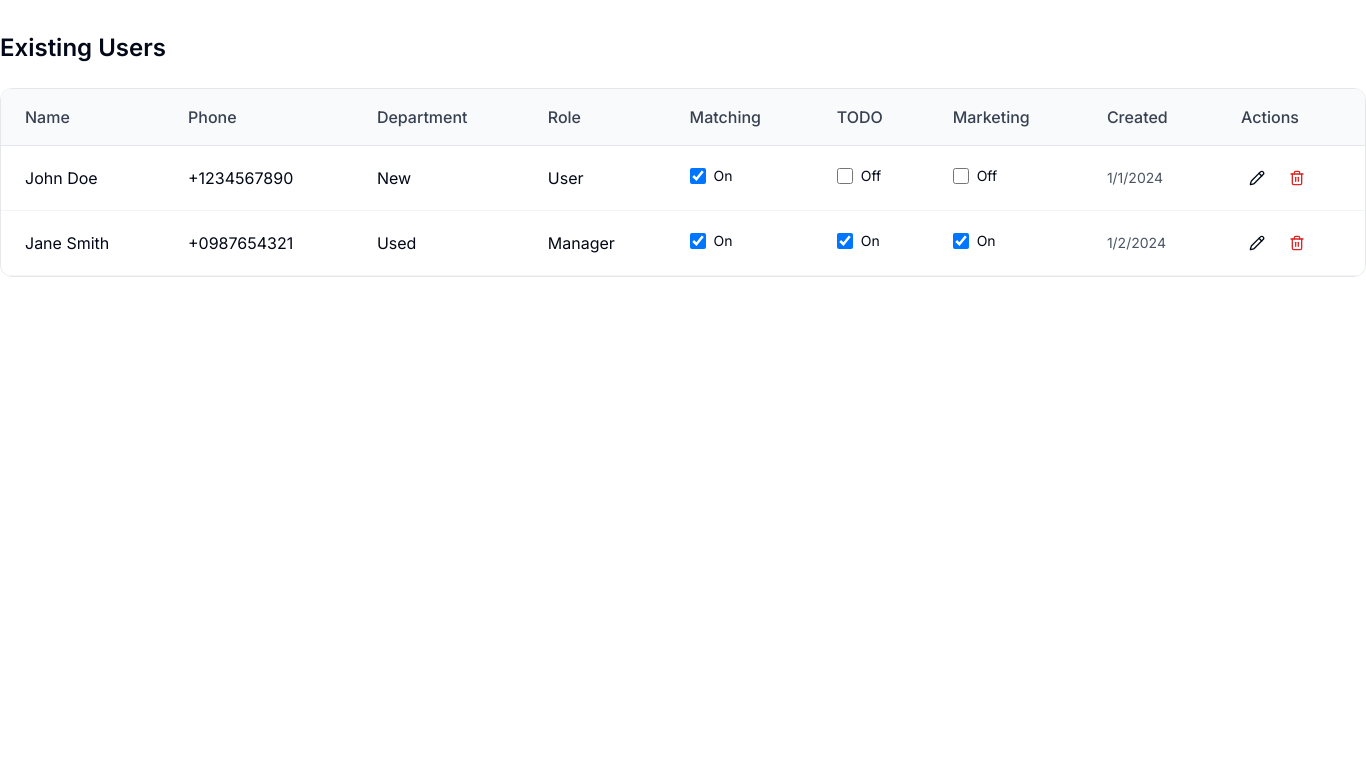
Scenario: UserList Component › Delete User › should open delete confirmation dialog when delete button clicked
Expected: the text "John Doe" is shown, top-left (1, 146), bottom-right (164, 210)
Step 1. Click the button titled "Delete user" in the row of "John" → (1297, 178), box top-left (1281, 162), bottom-right (1313, 194)
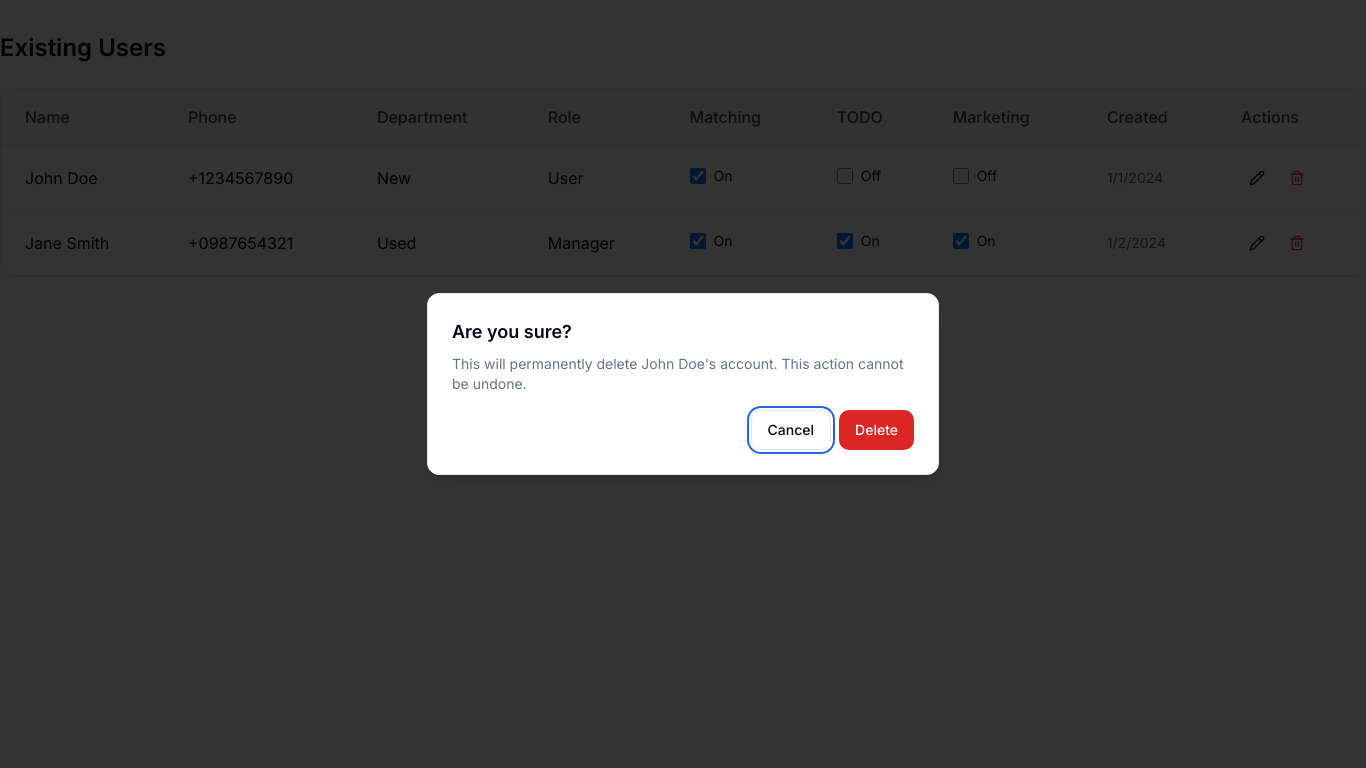
Expected: the heading "Are you sure?" is shown, top-left (452, 321), bottom-right (572, 342)
Expected: the text "permanently delete John Doe's account" is shown, top-left (452, 354), bottom-right (914, 394)
